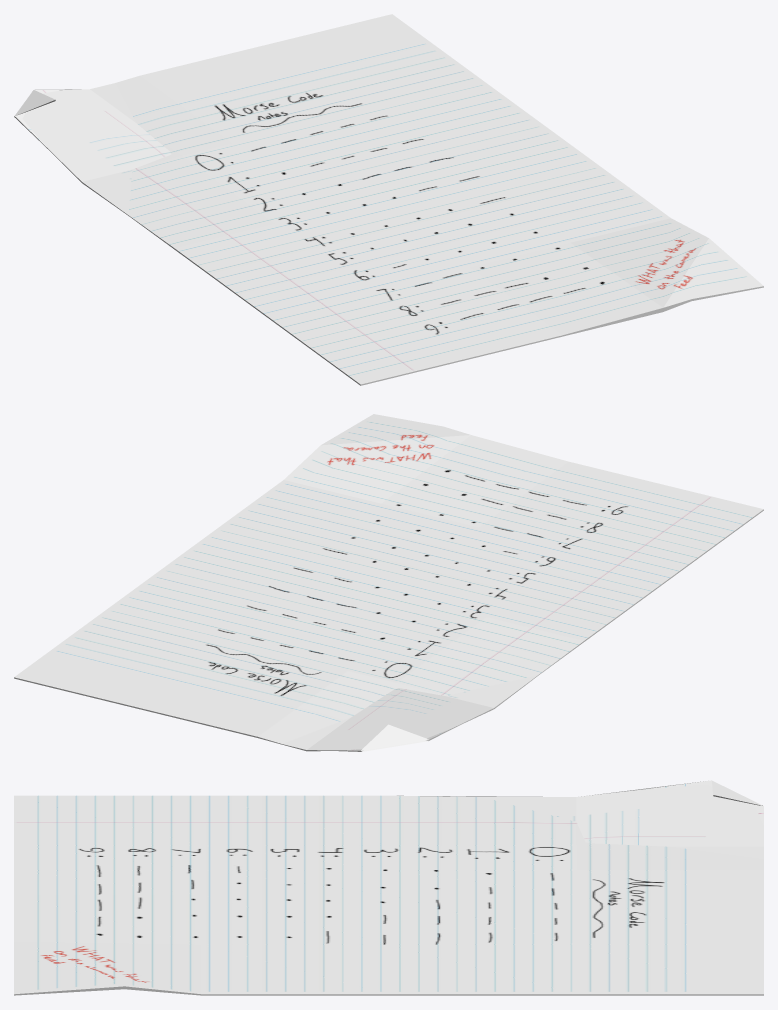
The model's file is morse(1).glb.
3 renders of one model, top to bottom at view 1: azimuth 30°, elevation 25°; view 2: azimuth 150°, elevation 25°; view 3: azimuth 270°, elevation 25°, orthographic. The views are drawn at different scales.
Parts seen in each view (by area): view 1: Plane; view 2: Plane; view 3: Plane.
Boxes of the visible parts, x1=… form: Plane: x1=14, y1=14, x2=763, y2=385; Plane: x1=14, y1=414, x2=763, y2=751; Plane: x1=14, y1=780, x2=763, y2=995.
Size of the model in its own units: 1.23 by 0.0693 by 1.97.
Materials: 3 (2 with a texture image).
